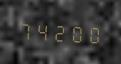four: (35, 18, 51, 43)
seven: (18, 17, 34, 42)
two: (52, 19, 68, 44)
zero: (69, 20, 85, 45), (86, 21, 102, 46)
